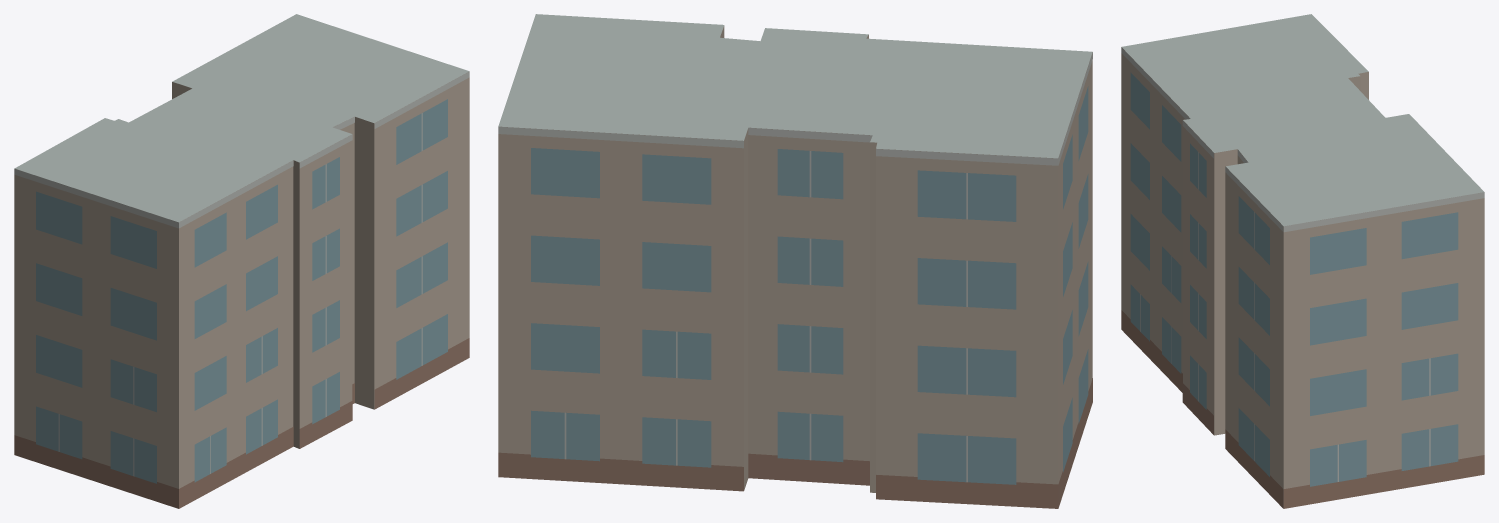
The model's file is survey-upis-32754724.glb.
3 renders of one model, left to right at view 1: azimuth 30°, elevation 25°; view 2: azimuth 150°, elevation 25°; view 3: azimuth 270°, elevation 25°, orthographic. The views are drawn at different scales.
Parts seen in each view (by area): view 1: survey-upis-32754724.tmp; view 2: survey-upis-32754724.tmp; view 3: survey-upis-32754724.tmp.
Part boxes in pixels (box(x1,y1,x2,y2)): survey-upis-32754724.tmp: box(14, 14, 469, 508); survey-upis-32754724.tmp: box(498, 14, 1092, 508); survey-upis-32754724.tmp: box(1121, 14, 1484, 508).
Bounding box in the file's own units: 18.54 × 11.5 × 13.41.
